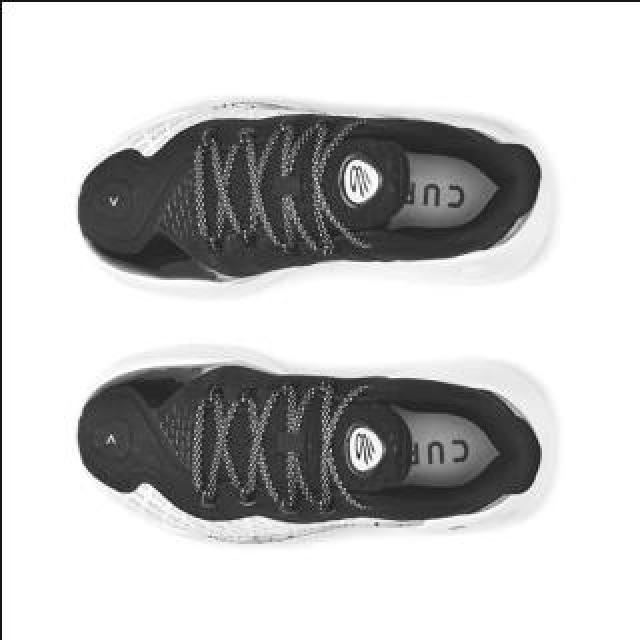shoe: (74, 339, 558, 549), (74, 99, 554, 305)
